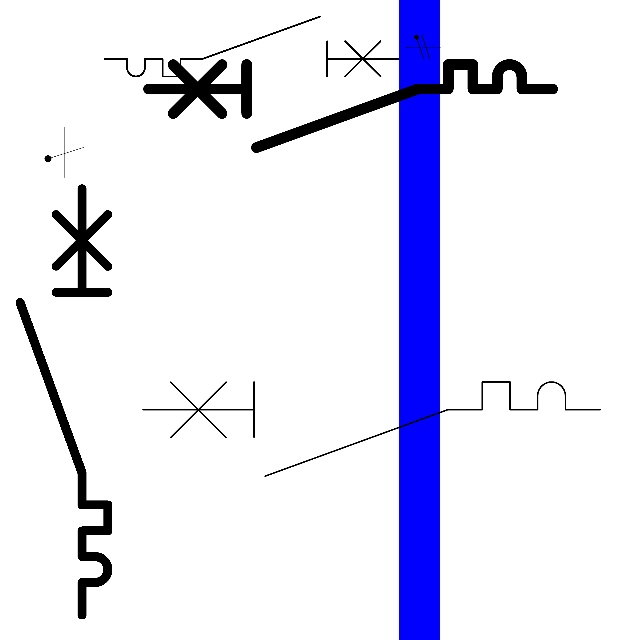interruptor_termomagnetico: (131, 370, 612, 487), (9, 177, 119, 625), (138, 54, 563, 158), (97, 9, 406, 84)
